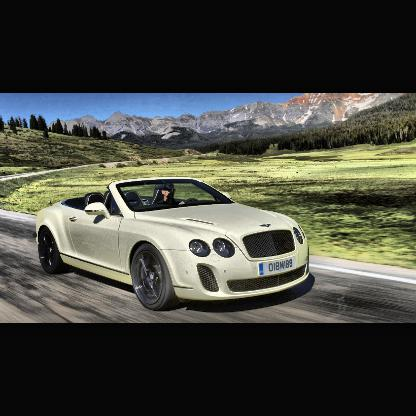Bentley Continental Supersports Conv- Convertible 2012: (38, 178, 314, 311)
